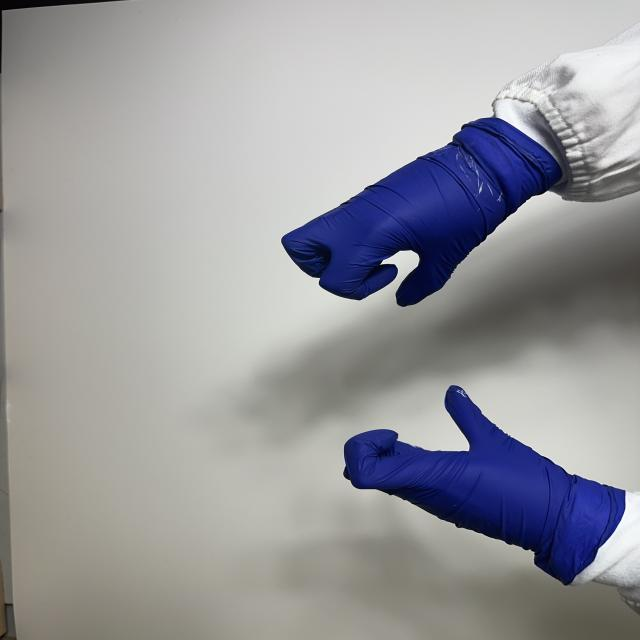gloves_contaminated: (344, 386, 626, 584), (283, 118, 560, 306)
